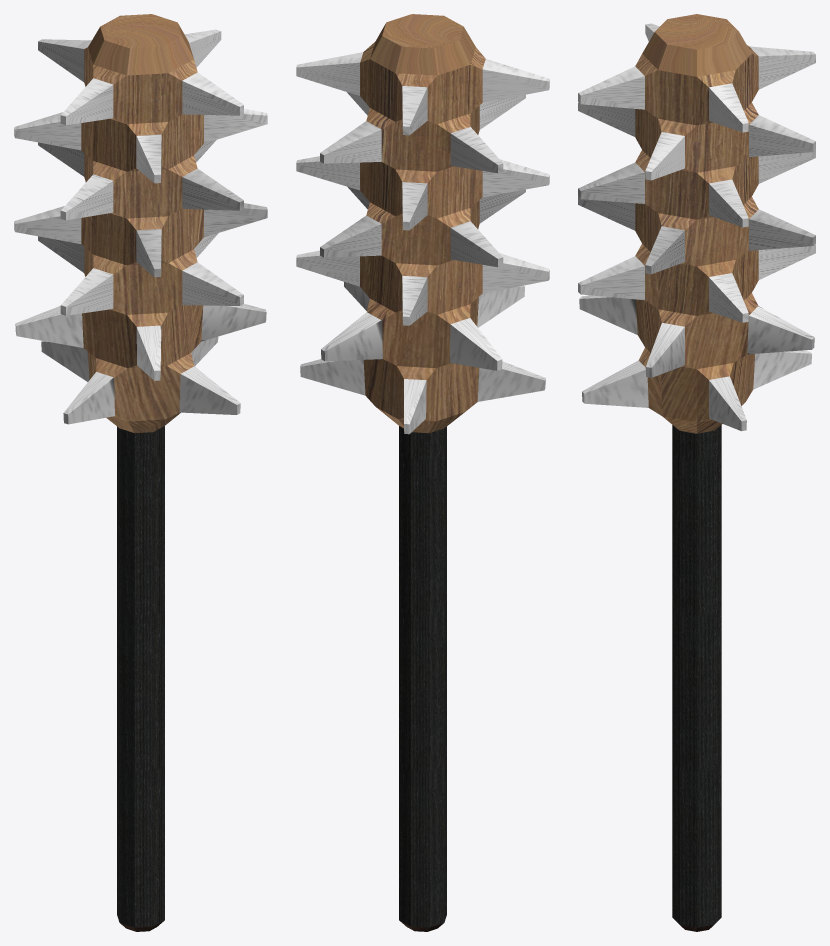
The model's file is AxeWood.fbx.
3 views of the same model, side by side, from view 1: azimuth 30°, elevation 25°; view 2: azimuth 150°, elevation 25°; view 3: azimuth 270°, elevation 25° (orthographic).
Visible parts, largest first — view 1: axewood; view 2: axewood; view 3: axewood.
Part boxes in pixels (left/top/right/bottom): axewood: left=14, top=14, right=267, bottom=931; axewood: left=296, top=14, right=549, bottom=931; axewood: left=578, top=14, right=815, bottom=931.
Size of the model in its own units: 17.03 by 17.03 by 70.56.
4 materials, 4 textured.
